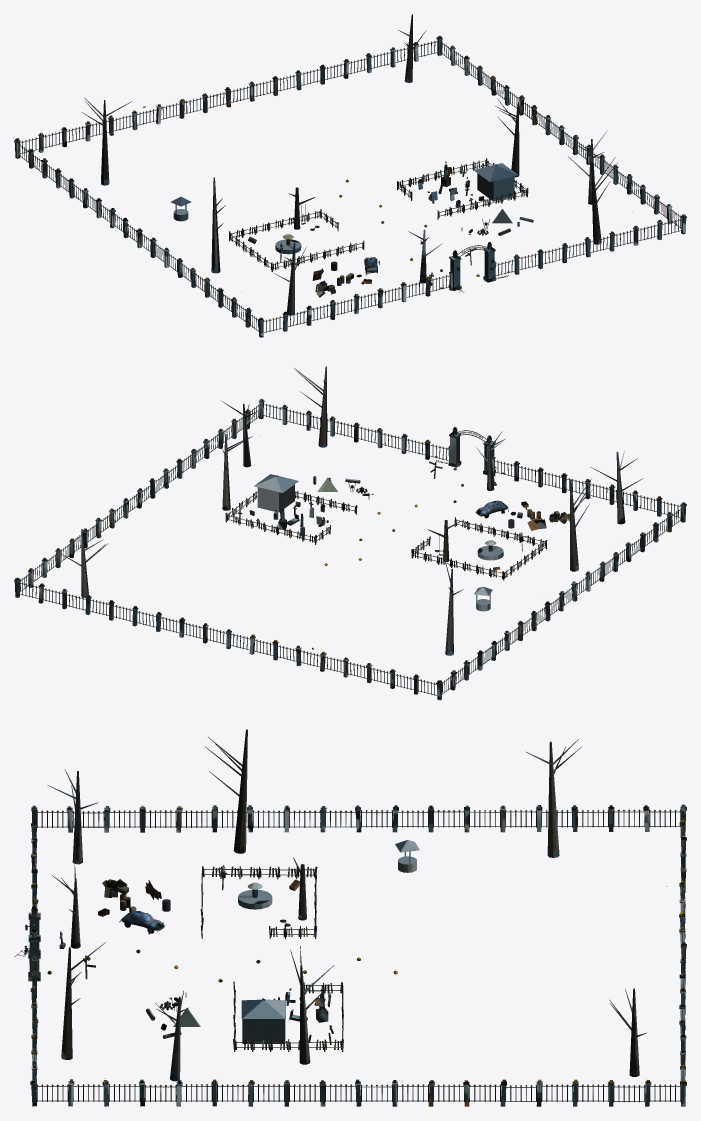
File: grounds_props.glb
3 renders of one model, top to bottom at view 1: azimuth 30°, elevation 25°; view 2: azimuth 150°, elevation 25°; view 3: azimuth 270°, elevation 25°, orthographic. The views are drawn at different scales.
Visible parts, largest first — view 1: CHUNK_grounds_props; view 2: CHUNK_grounds_props; view 3: CHUNK_grounds_props.
Boxes of the visible parts, x1,y1,x2,y2 form: CHUNK_grounds_props: (14, 14, 686, 337); CHUNK_grounds_props: (14, 366, 686, 700); CHUNK_grounds_props: (14, 729, 686, 1106).
Bounding box in the file's own units: 60.75 × 12.84 × 62.25.
Materials: 1 (1 with a texture image).
